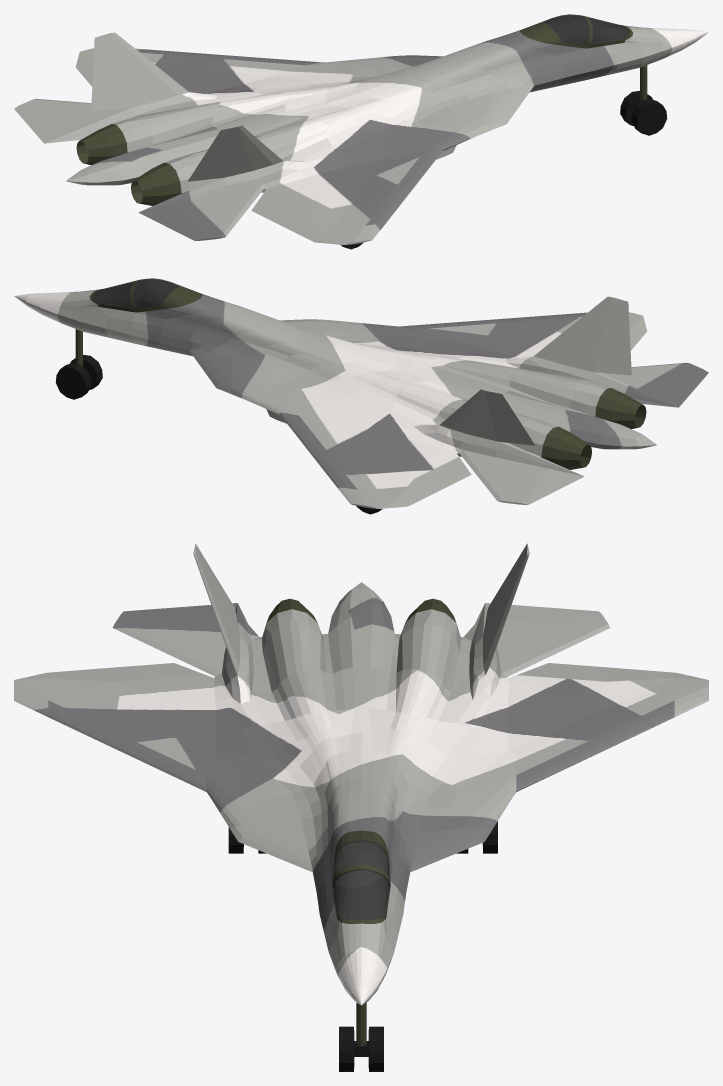
3 views of the same model, one above another, from view 1: azimuth 30°, elevation 25°; view 2: azimuth 150°, elevation 25°; view 3: azimuth 270°, elevation 25° (orthographic). The views are drawn at different scales.
Visible parts, largest first — view 1: Body, Rudder, Slats, Rudder L, Engine Cone, Cockpit Glass, Cylinder.003, Rudder R, Engine, Leading endge flpas R, Cockpit Metal, Flaps R (+1 smaller); view 2: Body, Rudder, Slats, Rudder R, Engine Cone, Cockpit Glass, Cylinder.003, Rudder L, Engine, Leading endge flpas L, Cockpit Metal, Flaps L (+1 smaller); view 3: Body, Slats, Cockpit Glass, Rudder, Leading endge flpas R, Leading endge flpas L, Cylinder.003, Cockpit Metal, Flaps L, Flaps R.
Boxes of the visible parts, x1=… form: Body: x1=14, y1=25, x2=708, y2=244; Rudder: x1=110, y1=32, x2=283, y2=177; Slats: x1=137, y1=49, x2=443, y2=225; Rudder L: x1=91, y1=33, x2=129, y2=111; Engine Cone: x1=76, y1=130, x2=165, y2=205; Cockpit Glass: x1=542, y1=14, x2=629, y2=44; Cylinder.003: x1=620, y1=91, x2=667, y2=135; Rudder R: x1=187, y1=126, x2=237, y2=181; Engine: x1=98, y1=124, x2=181, y2=200; Leading endge flpas R: x1=490, y1=85, x2=533, y2=130; Cockpit Metal: x1=520, y1=15, x2=632, y2=48; Flaps R: x1=251, y1=193, x2=308, y2=224; Body: x1=14, y1=289, x2=708, y2=508; Rudder: x1=439, y1=296, x2=612, y2=441; Slats: x1=279, y1=313, x2=585, y2=489; Rudder R: x1=593, y1=297, x2=631, y2=375; Engine Cone: x1=557, y1=394, x2=646, y2=469; Cockpit Glass: x1=93, y1=278, x2=180, y2=308; Cylinder.003: x1=55, y1=355, x2=102, y2=399; Rudder L: x1=485, y1=390, x2=534, y2=445; Engine: x1=541, y1=388, x2=623, y2=464; Leading endge flpas L: x1=189, y1=349, x2=232, y2=394; Cockpit Metal: x1=89, y1=279, x2=202, y2=312; Flaps L: x1=414, y1=457, x2=471, y2=488; Body: x1=14, y1=582, x2=708, y2=1005; Slats: x1=48, y1=700, x2=674, y2=791; Cockpit Glass: x1=332, y1=840, x2=390, y2=919; Rudder: x1=193, y1=553, x2=529, y2=674; Leading endge flpas R: x1=230, y1=826, x2=312, y2=872; Leading endge flpas L: x1=410, y1=826, x2=492, y2=872; Cylinder.003: x1=339, y1=1026, x2=383, y2=1071; Cockpit Metal: x1=332, y1=830, x2=390, y2=923; Flaps L: x1=517, y1=663, x2=606, y2=681; Flaps R: x1=116, y1=663, x2=205, y2=681.
Bounding box in the file's own units: 997 × 242 × 709.
